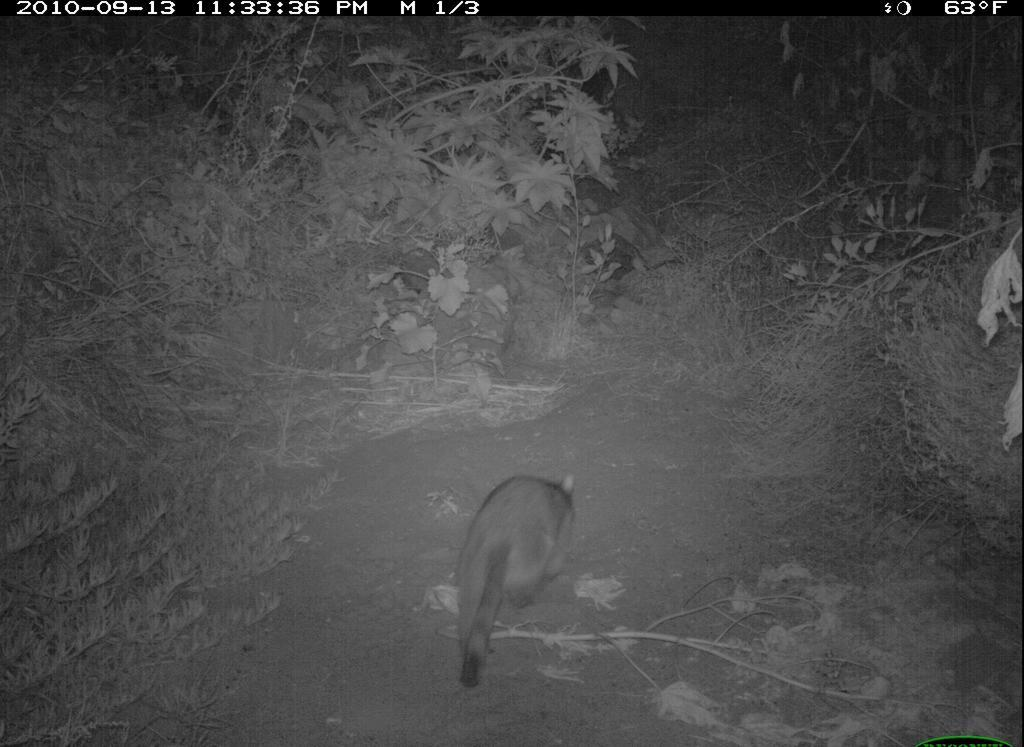raccoon: (425, 457, 617, 708)
